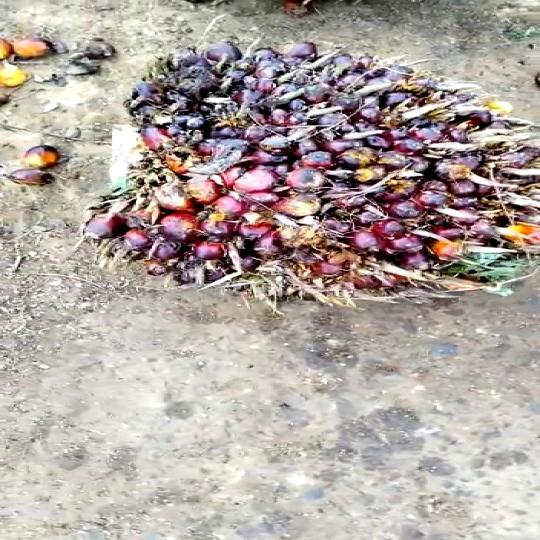masak: (99, 36, 540, 329)
